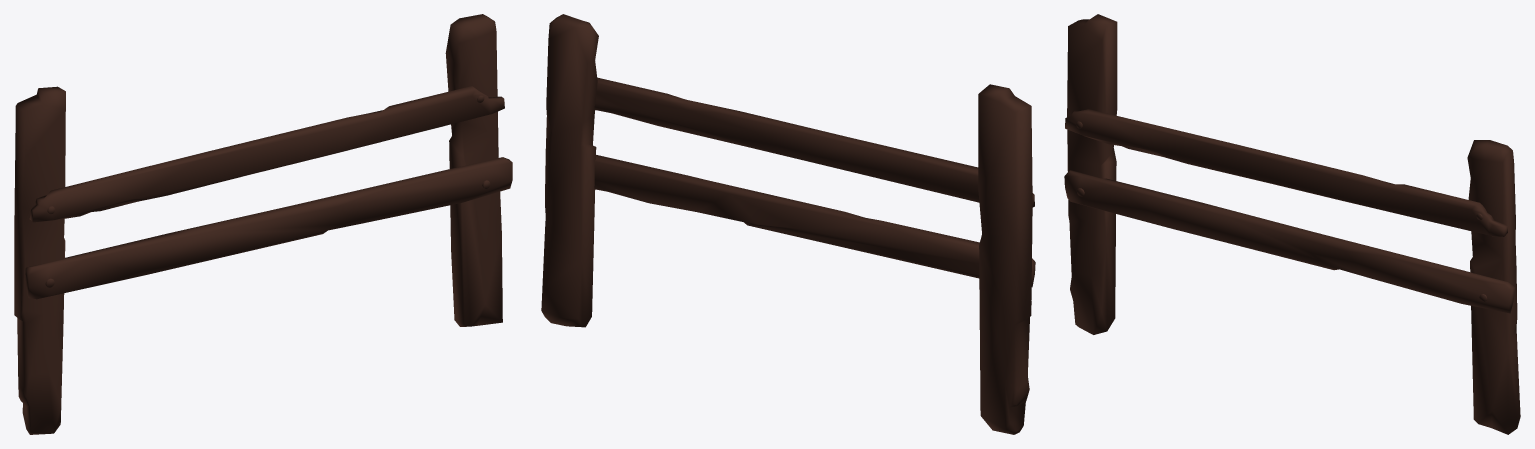
The model's file is SM_Fence_05.fbx.
The picture shows the model from 3 angles, left to right: view 1: azimuth 30°, elevation 25°; view 2: azimuth 150°, elevation 25°; view 3: azimuth 330°, elevation 25°; orthographic projection. The views are drawn at different scales.
Visible parts, largest first — view 1: SM_Fence_05_LOD0; view 2: SM_Fence_05_LOD0; view 3: SM_Fence_05_LOD0.
Part boxes in pixels (bbox=[...]): SM_Fence_05_LOD0: bbox=[14, 14, 512, 434]; SM_Fence_05_LOD0: bbox=[541, 14, 1035, 434]; SM_Fence_05_LOD0: bbox=[1064, 14, 1520, 434].
Size of what is drawn, in the model's own units: 212 by 141 by 15.45.
